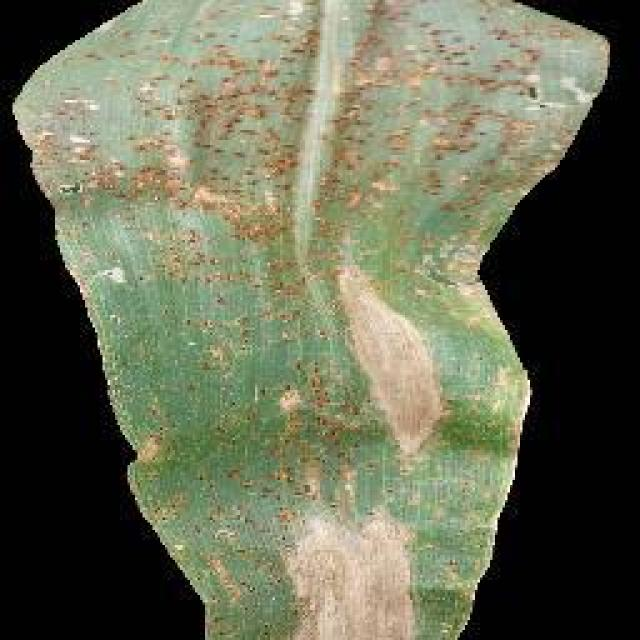Corn Common Rust: (113, 44, 595, 518)
